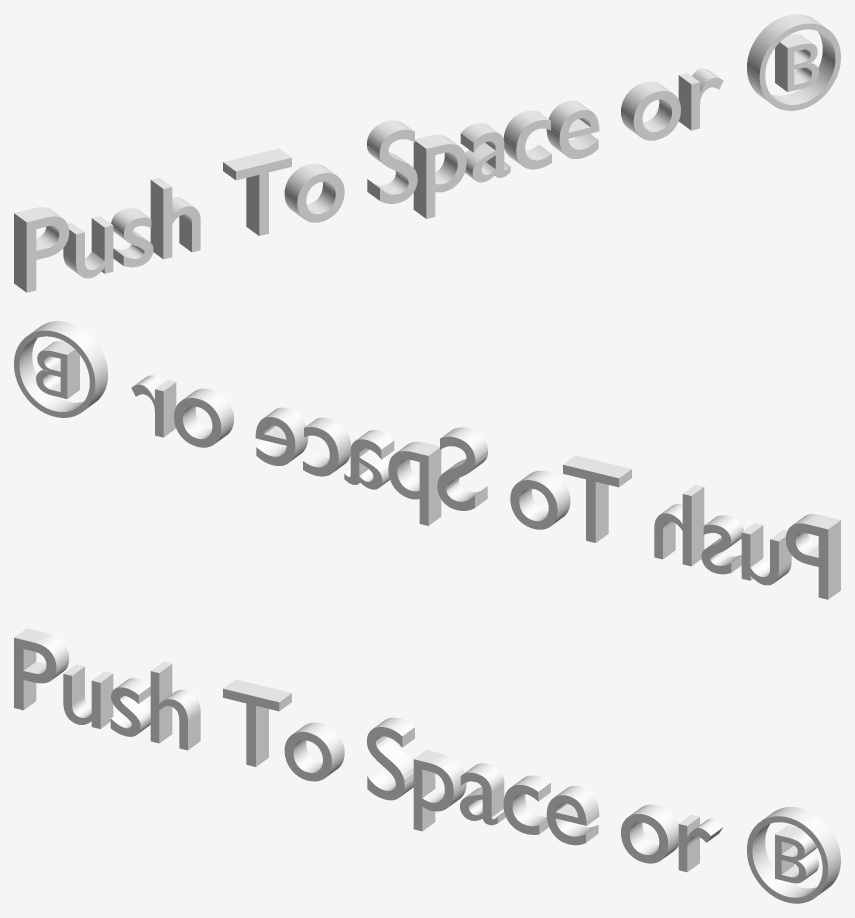
The model's file is Space.obj.
3 views of the same model, one above another, from view 1: azimuth 30°, elevation 25°; view 2: azimuth 150°, elevation 25°; view 3: azimuth 330°, elevation 25° (orthographic).
Parts seen in each view (by area): view 1: テキスト; view 2: テキスト; view 3: テキスト.
Part boxes in pixels (x1,y1,x2,y2): テキスト: (14, 14, 840, 292); テキスト: (14, 321, 840, 599); テキスト: (14, 628, 840, 903).
Size of the model in its own units: 8.26 by 0.999 by 0.2246.
1 material, 1 textured.
